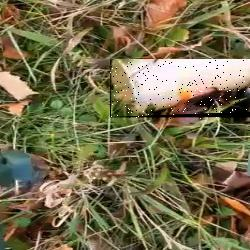restaffald: (110, 60, 250, 120)
